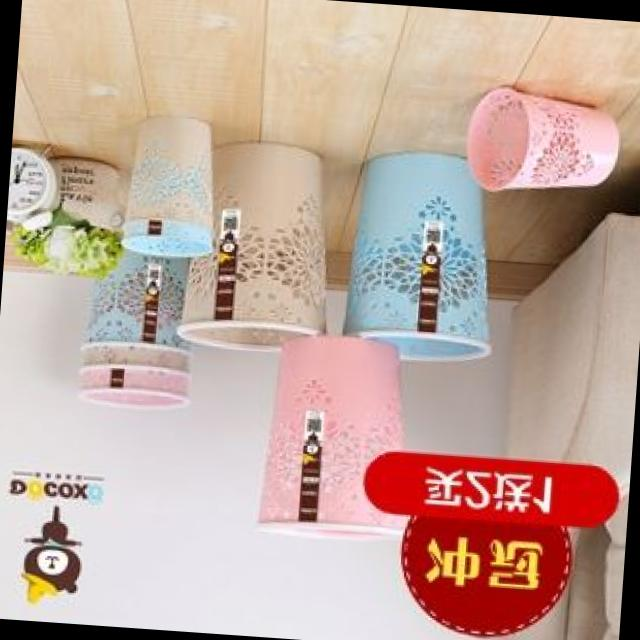dustbin: (334, 146, 511, 368), (247, 327, 423, 549), (172, 131, 342, 359), (462, 77, 626, 200), (113, 105, 225, 238), (72, 246, 196, 360)
